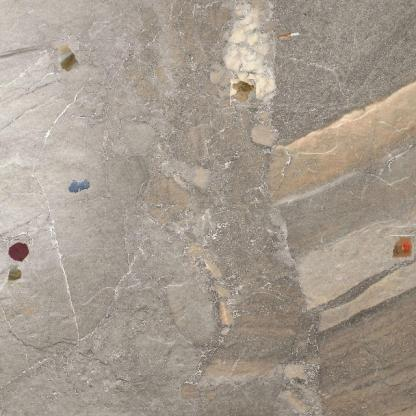dirty: (53, 41, 80, 73), (230, 79, 256, 105), (5, 262, 27, 290), (390, 236, 415, 260), (278, 28, 300, 40)
liquid: (6, 241, 30, 264), (67, 178, 92, 194)
